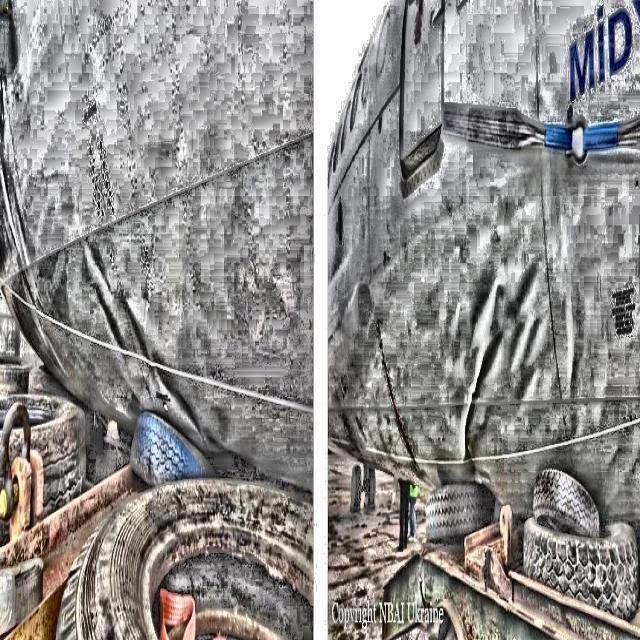dent: (90, 240, 201, 436), (457, 261, 539, 466)
